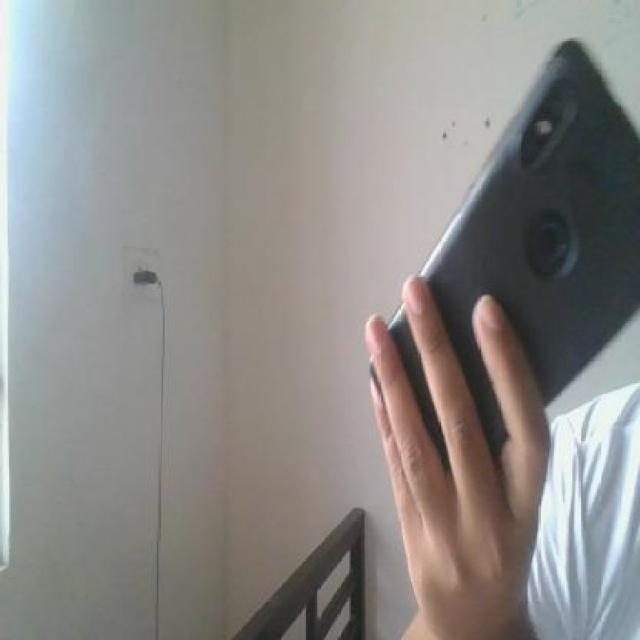Phone: (362, 37, 640, 463)
